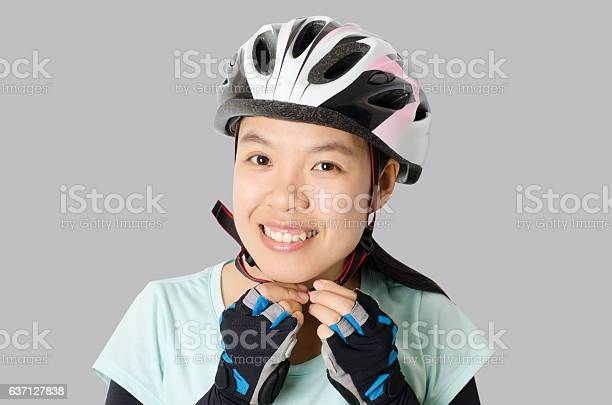helmet: (214, 16, 432, 284)
